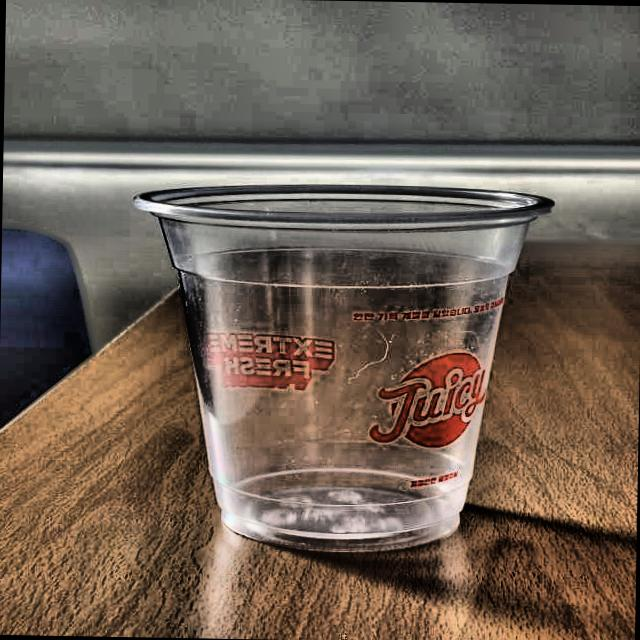plastic cup: (128, 179, 559, 556)
